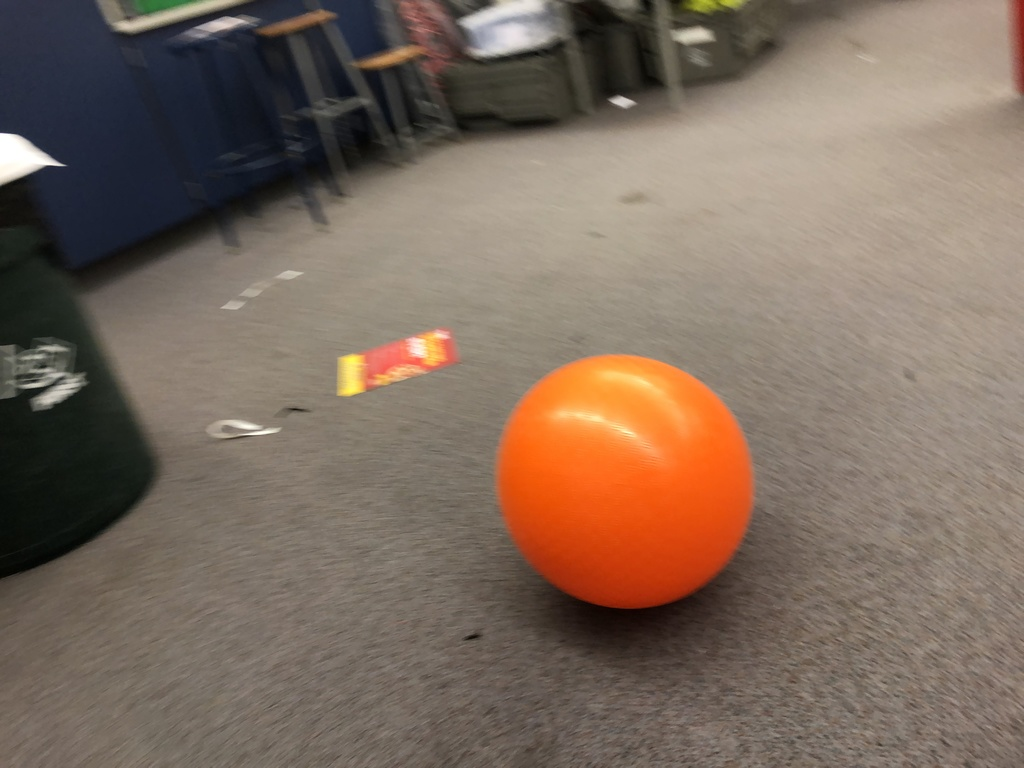cargo: (490, 345, 760, 618)
